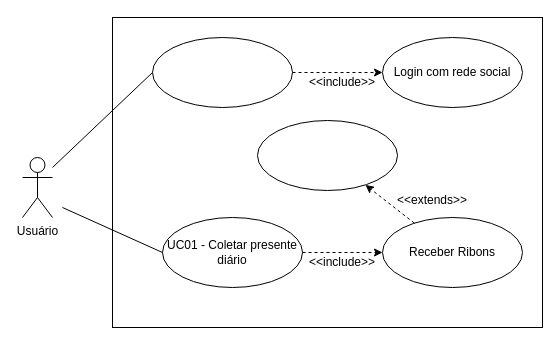
Some shapes in this 560 by 345 pixel diagram are drawn without their labels. Here are the shapes that lost their labels. From the top down, the centre of each, then its label:
(222,72): UC15 - Realizar Login
(327,155): Doar Ribons
